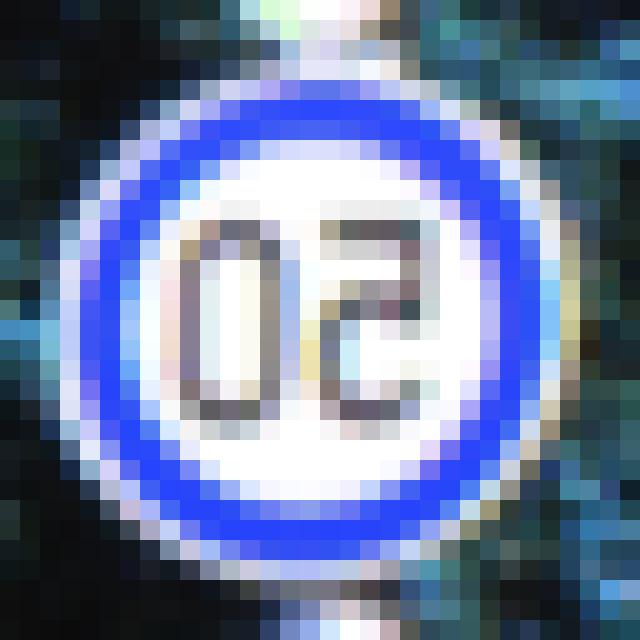SPEED LIMIT 50: (84, 128, 524, 548)
